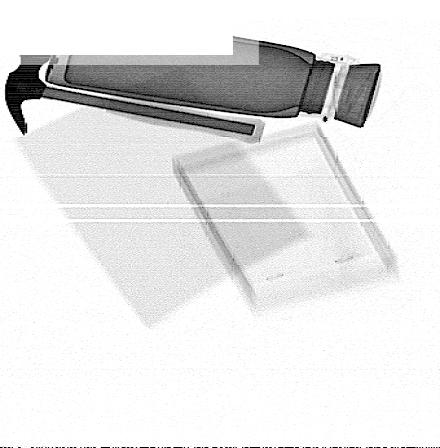Hammer: (4, 54, 266, 144)
